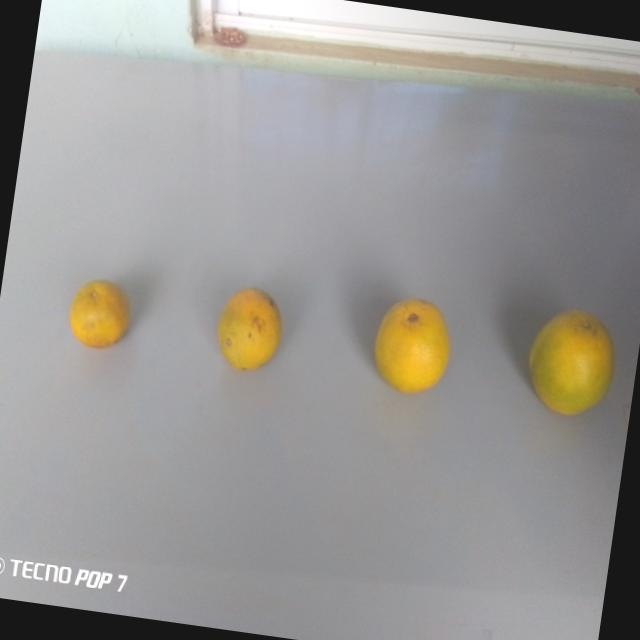agrume: (512, 300, 625, 425), (364, 290, 459, 405), (204, 278, 296, 381), (56, 269, 142, 362)
